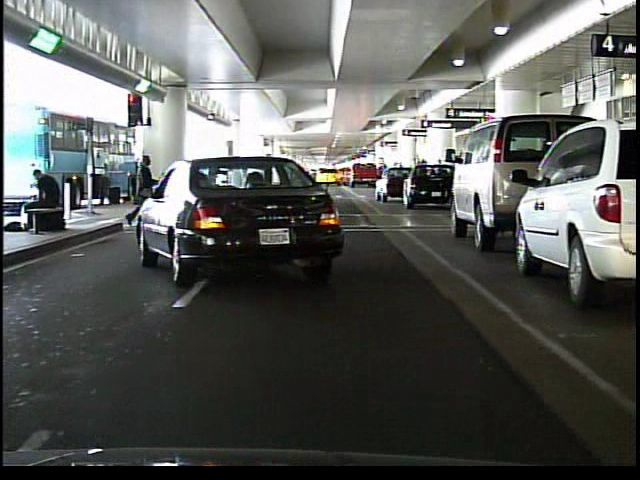person: (26, 165, 64, 238), (128, 150, 158, 205)
